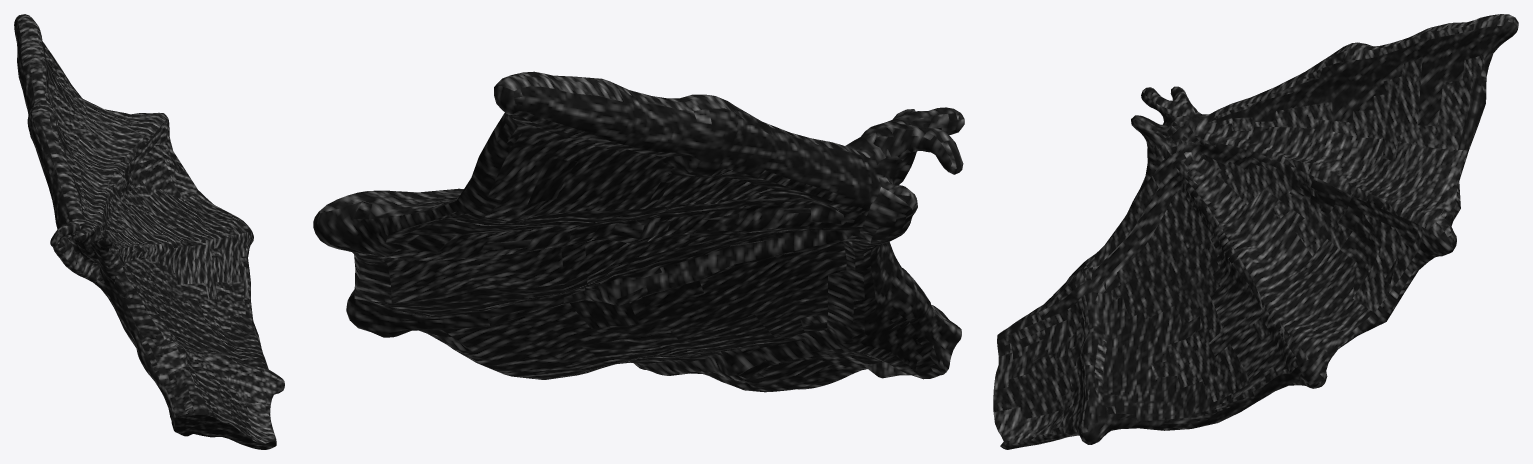
File: AlaDerecha.obj
3 renders of one model, left to right at view 1: azimuth 30°, elevation 25°; view 2: azimuth 150°, elevation 25°; view 3: azimuth 270°, elevation 25°, orthographic. The views are drawn at different scales.
Parts seen in each view (by area): view 1: AlaDerecha; view 2: AlaDerecha; view 3: AlaDerecha.
Part boxes in pixels (box(x1,y1,x2,y2)): AlaDerecha: box(14, 14, 284, 449); AlaDerecha: box(313, 71, 964, 392); AlaDerecha: box(993, 14, 1518, 449).
Bounding box in the file's own units: 31.57 × 36.49 × 43.36.
